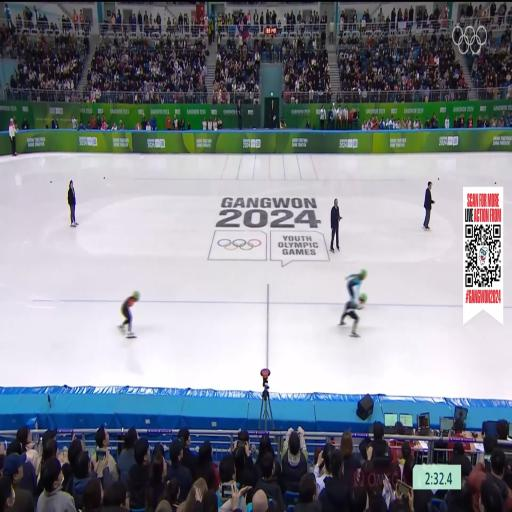Skater: (340, 294, 366, 337), (119, 292, 139, 338), (346, 269, 367, 299)
